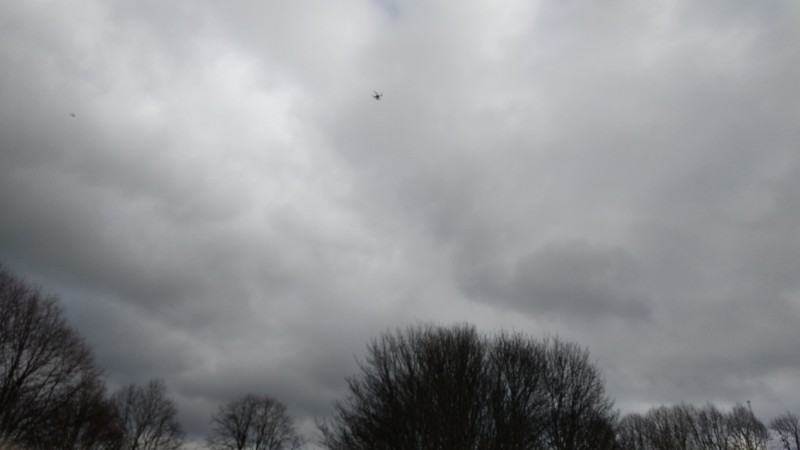drone: (371, 92, 385, 101)
